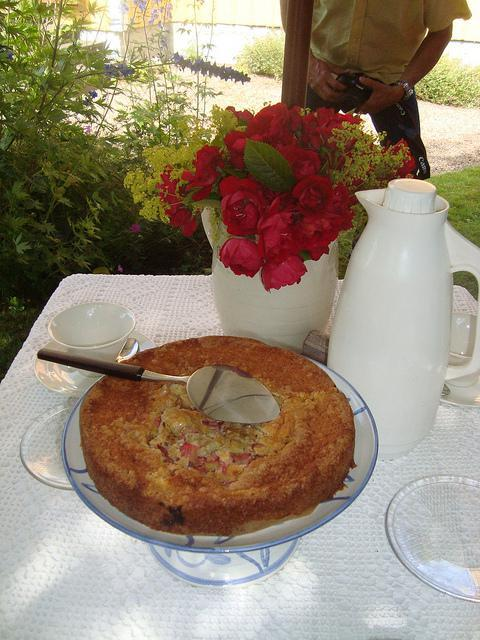hand: (288, 30, 346, 102), (359, 69, 424, 119)
